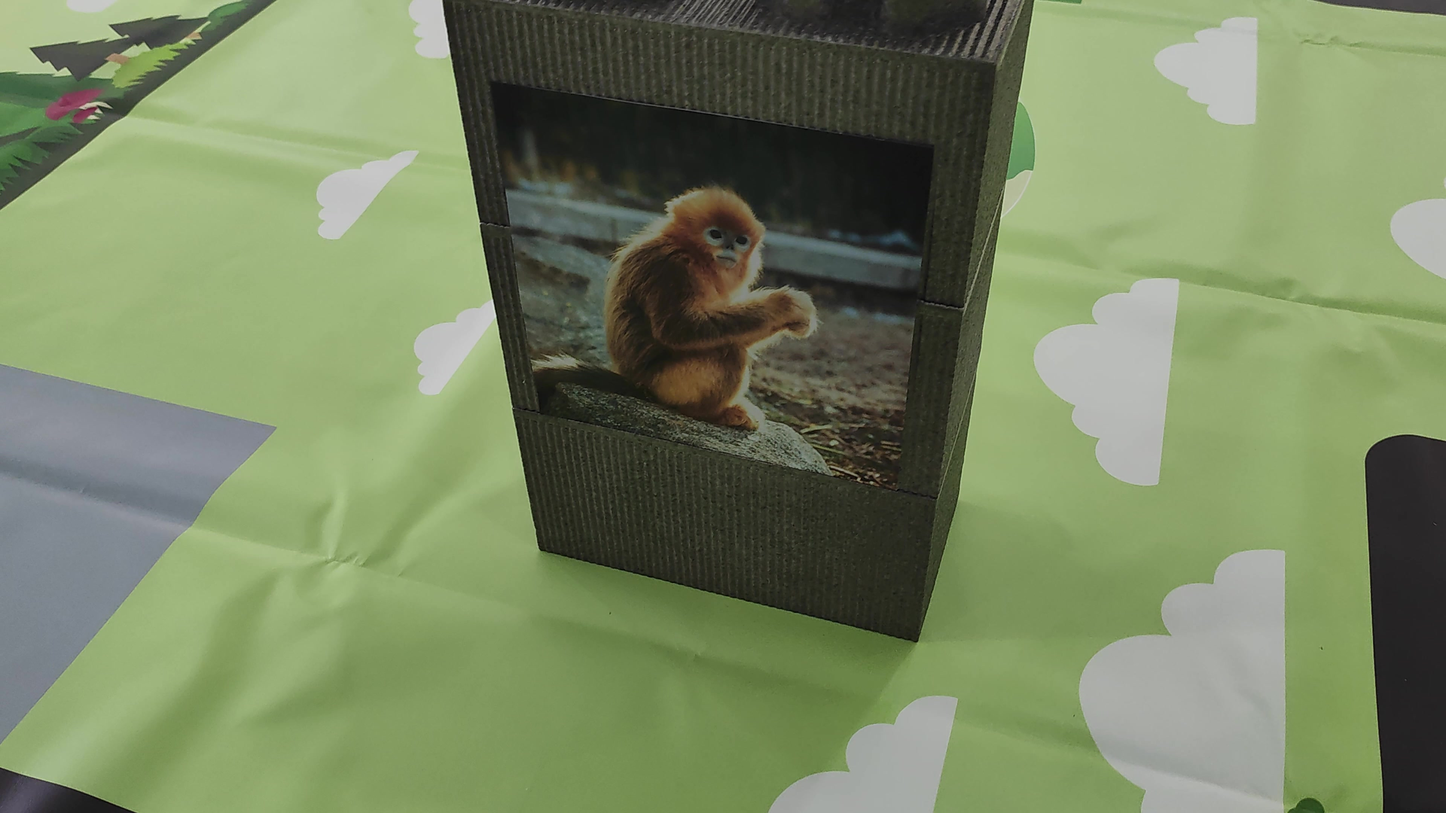monkey: (557, 160, 828, 439)
